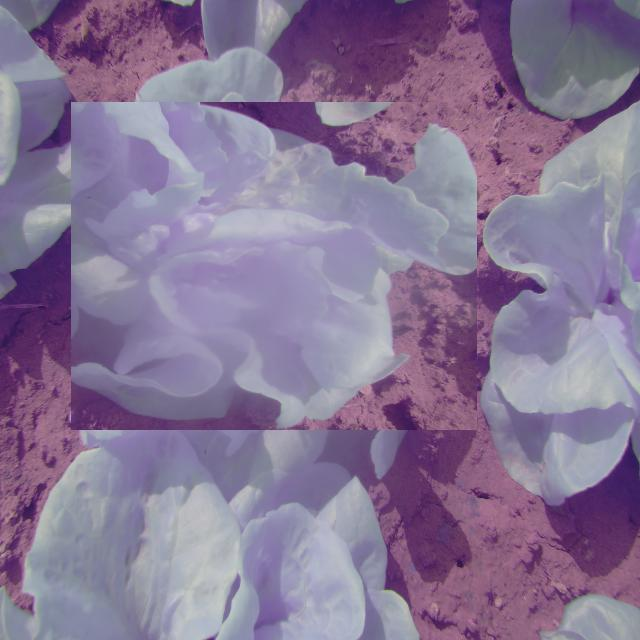vege: (90, 83, 458, 450)
